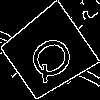Q: (23, 27, 85, 87)
